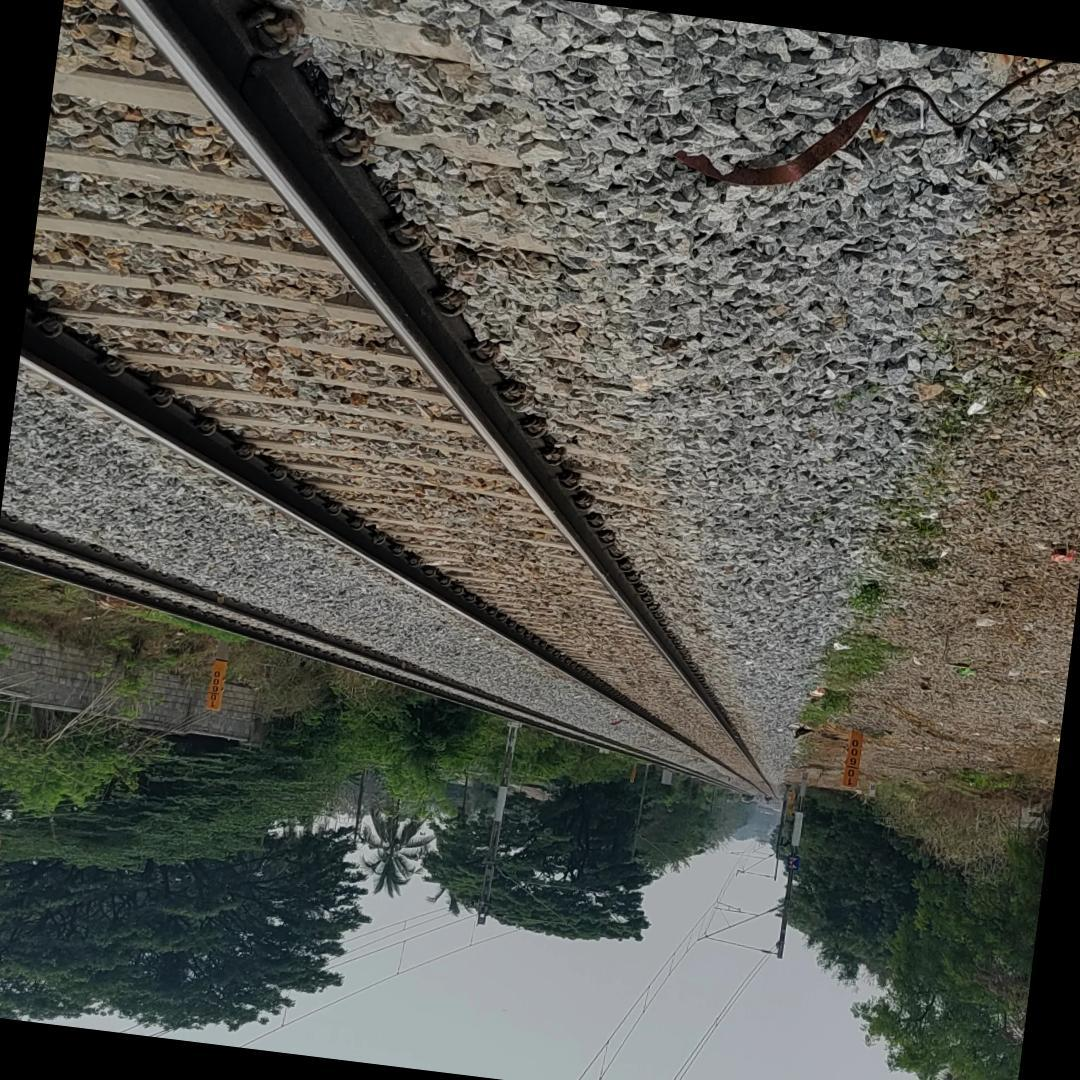track: (11, 0, 781, 799)
